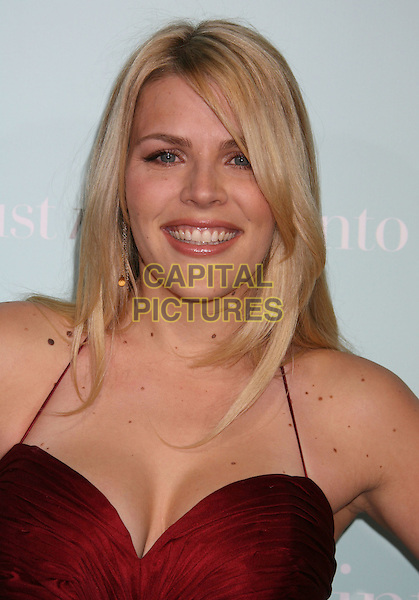mole: (43, 332, 58, 352), (62, 327, 76, 344), (358, 374, 371, 389), (207, 330, 220, 344), (136, 382, 151, 393), (329, 444, 340, 458), (147, 328, 157, 342), (361, 450, 372, 461), (228, 457, 239, 467), (125, 416, 136, 426), (301, 388, 313, 397)
